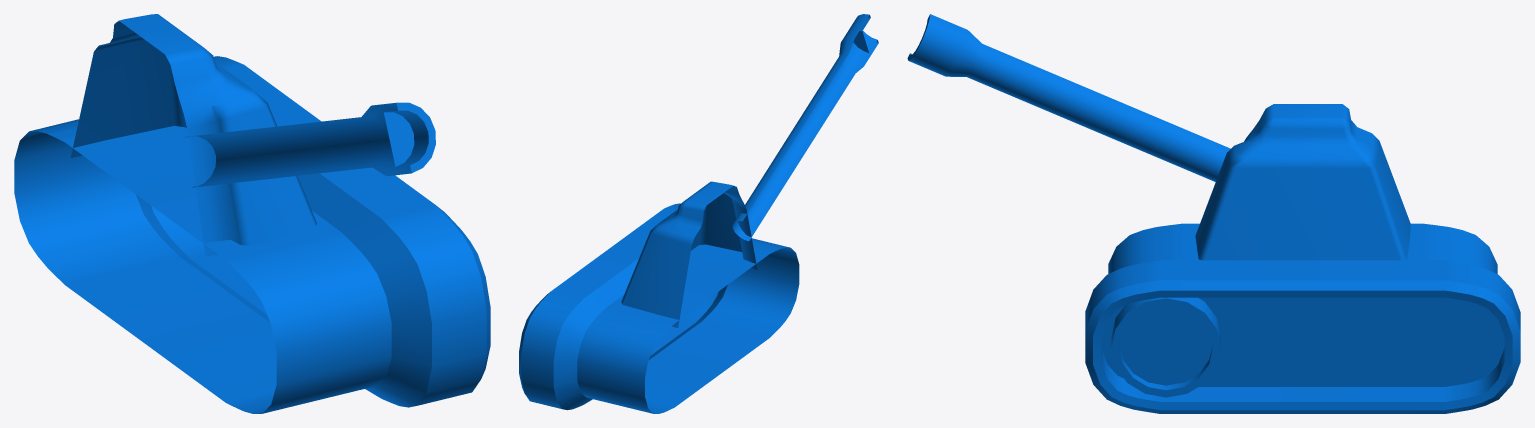
Rendered from Tank.fbx.
3 renders of one model, left to right at view 1: azimuth 30°, elevation 25°; view 2: azimuth 150°, elevation 25°; view 3: azimuth 270°, elevation 25°, orthographic. The views are drawn at different scales.
Parts seen in each view (by area): view 1: polySurface5; view 2: polySurface5; view 3: polySurface5.
Boxes of the visible parts, box(x1,y1,x2,y2) form: polySurface5: box(14, 14, 490, 413); polySurface5: box(519, 14, 878, 413); polySurface5: box(907, 14, 1520, 413).
Size of the model in its own units: 100 by 208 by 351.
